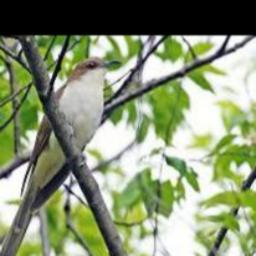Cuckoo: (0, 58, 123, 256)
